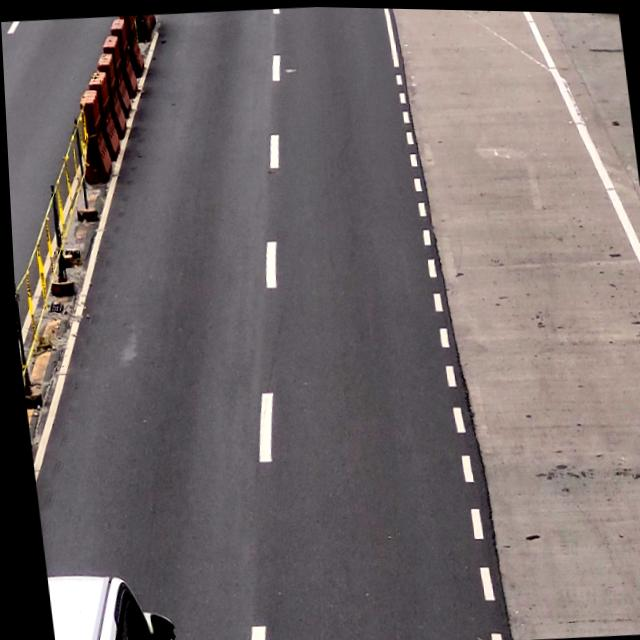Car: (40, 566, 153, 640)
